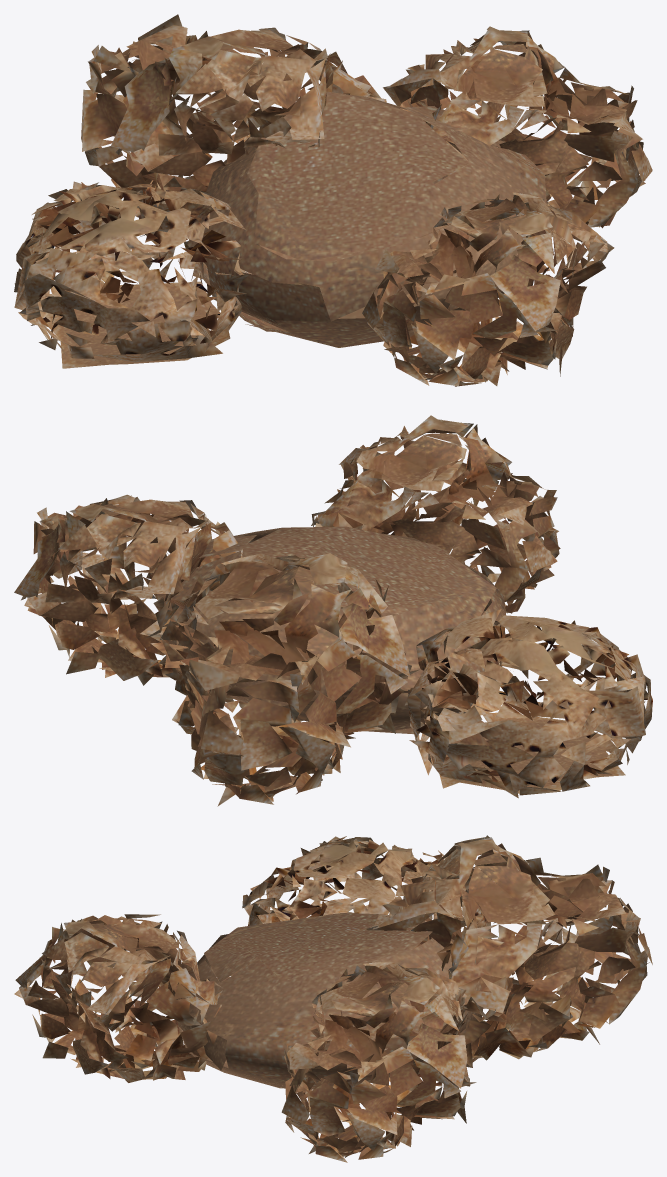
The model's file is desert_pebble_b_heap.glb.
3 views of the same model, one above another, from view 1: azimuth 30°, elevation 25°; view 2: azimuth 150°, elevation 25°; view 3: azimuth 270°, elevation 25° (orthographic). The views are drawn at different scales.
Visible parts, largest first — view 1: desert_pebble_b_heap; view 2: desert_pebble_b_heap; view 3: desert_pebble_b_heap.
Part boxes in pixels (<box>): desert_pebble_b_heap: <box>14,14,652,386</box>; desert_pebble_b_heap: <box>14,415,652,806</box>; desert_pebble_b_heap: <box>14,835,652,1162</box>.
Bounding box in the file's own units: 3.12 × 1.08 × 3.1.
Materials: 3 (3 with a texture image).
